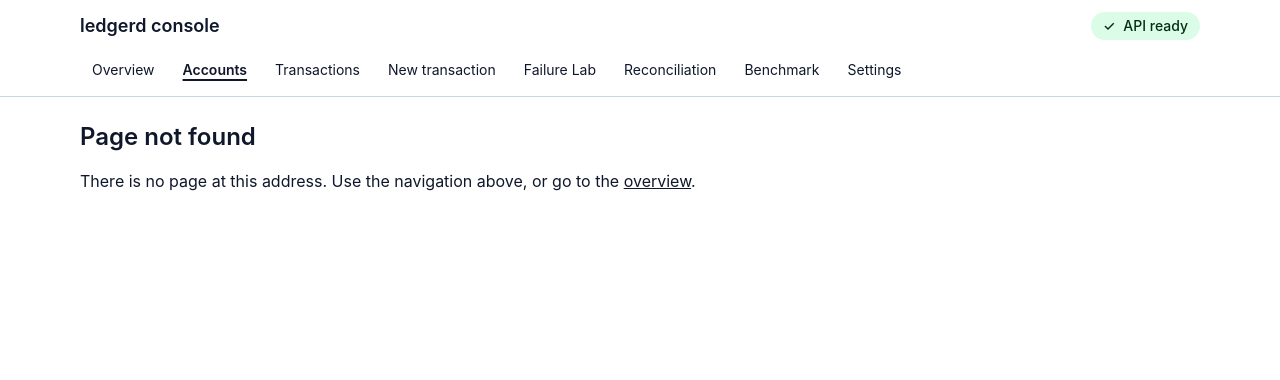
Test case: pages › an unknown address shows a page with a way back, not a blank screen
The image size is (1280, 380).
Expected: the heading "Page not found" is shown, [80,121,256,153]
Expected: the navigation bar named "Main" is shown, [92,61,902,78]
Click the link "overview".
click(657, 181)  # box [624,171,691,191]
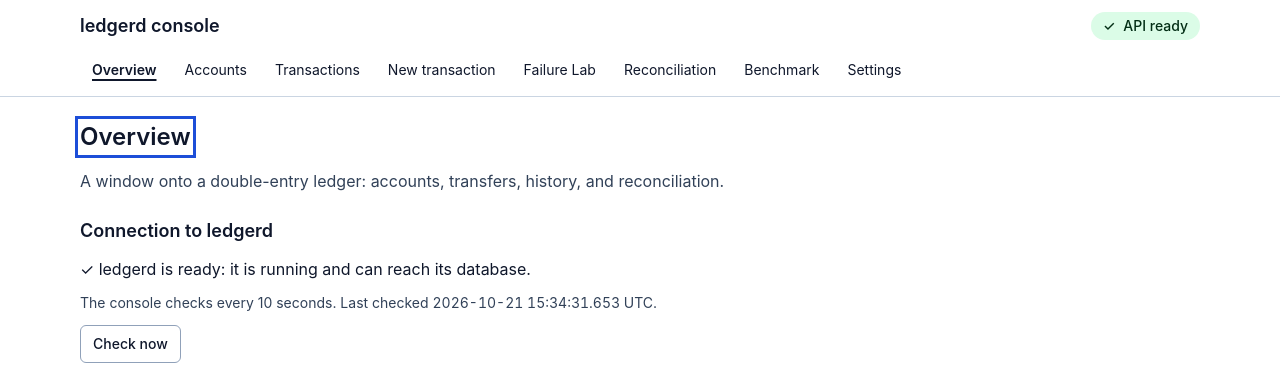
Result: the heading "Overview" is shown at [80,121,190,153]
